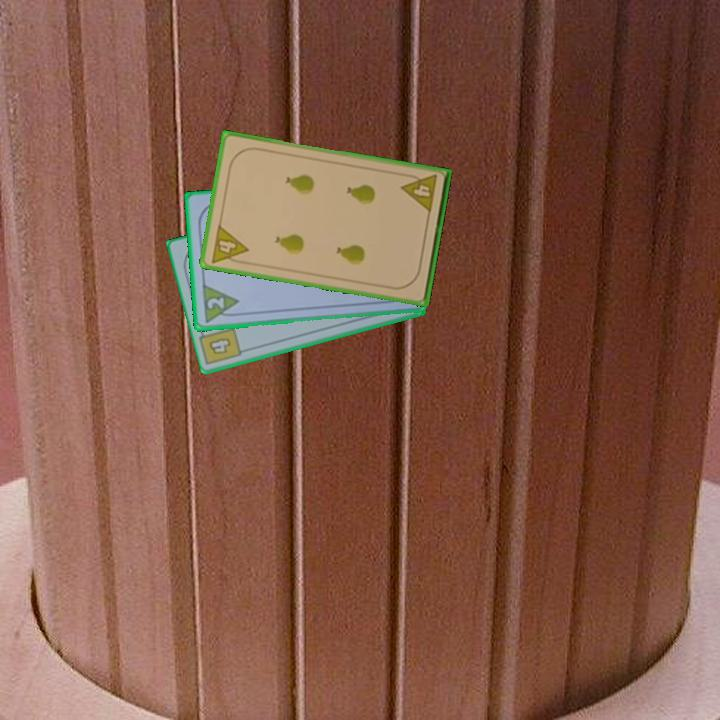2p: (198, 282, 242, 326)
4b: (205, 334, 234, 358)
4p: (208, 221, 251, 267), (398, 170, 440, 216)
